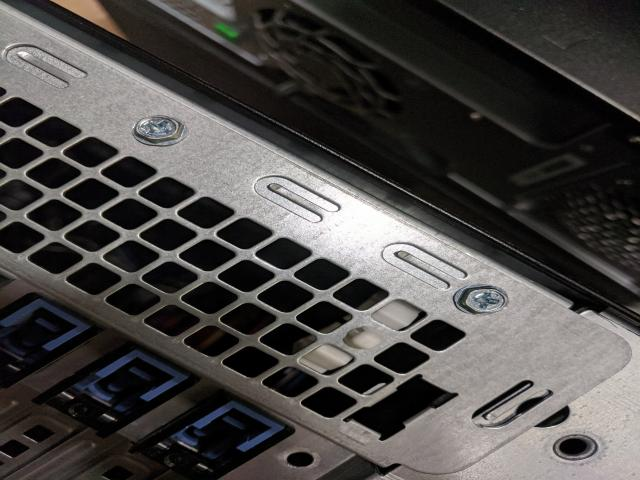CRS: (459, 284, 510, 316), (131, 116, 186, 142)
